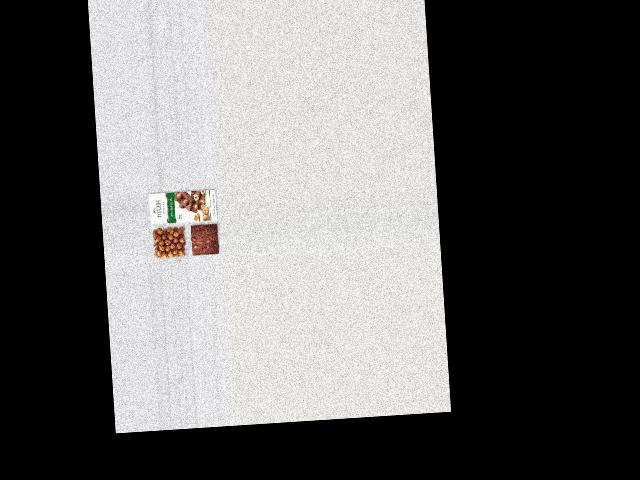chocolate: (190, 222, 220, 259)
